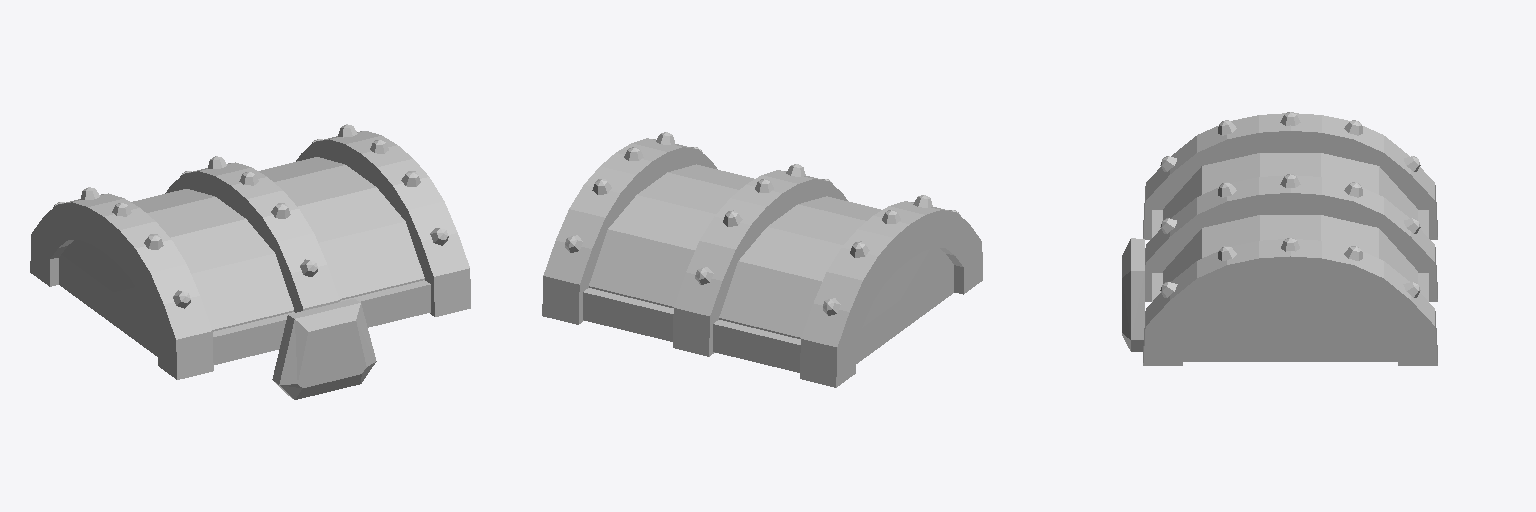
Rendered from Box_Top.obj.
3 views of the same model, side by side, from view 1: azimuth 30°, elevation 25°; view 2: azimuth 150°, elevation 25°; view 3: azimuth 270°, elevation 25° (orthographic).
Visible parts, largest first — view 1: Box_Top; view 2: Box_Top; view 3: Box_Top.
Part boxes in pixels (bbox=[...]): Box_Top: bbox=[30, 124, 470, 399]; Box_Top: bbox=[542, 132, 982, 387]; Box_Top: bbox=[1122, 112, 1437, 365].
Size of the model in its own units: 2.15 by 1.13 by 2.